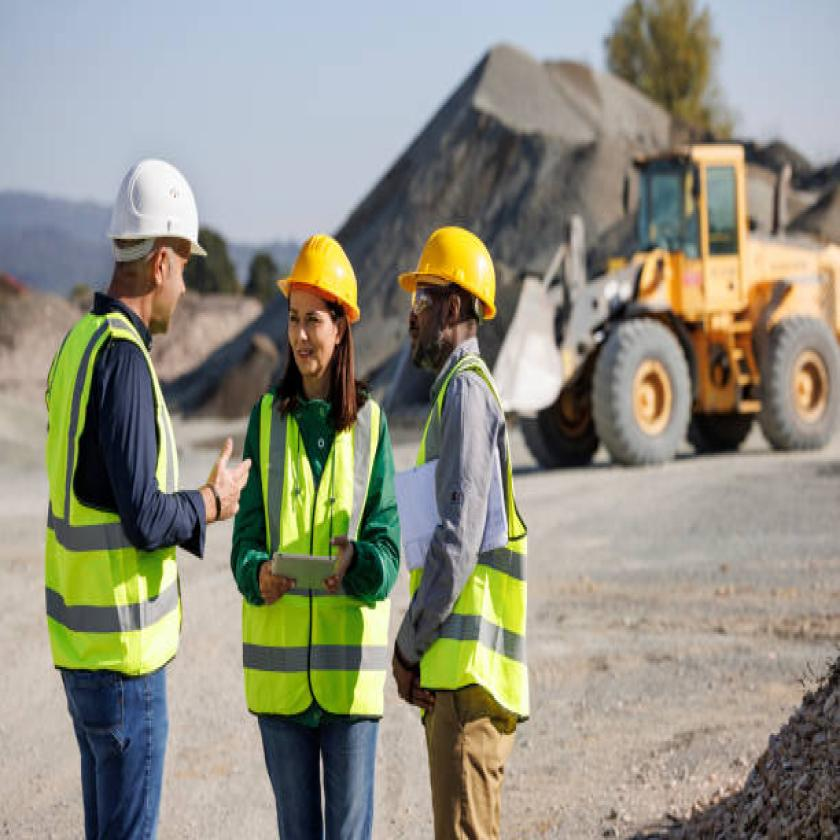Con_casco: (78, 125, 210, 360), (393, 206, 516, 373), (267, 202, 358, 398)
